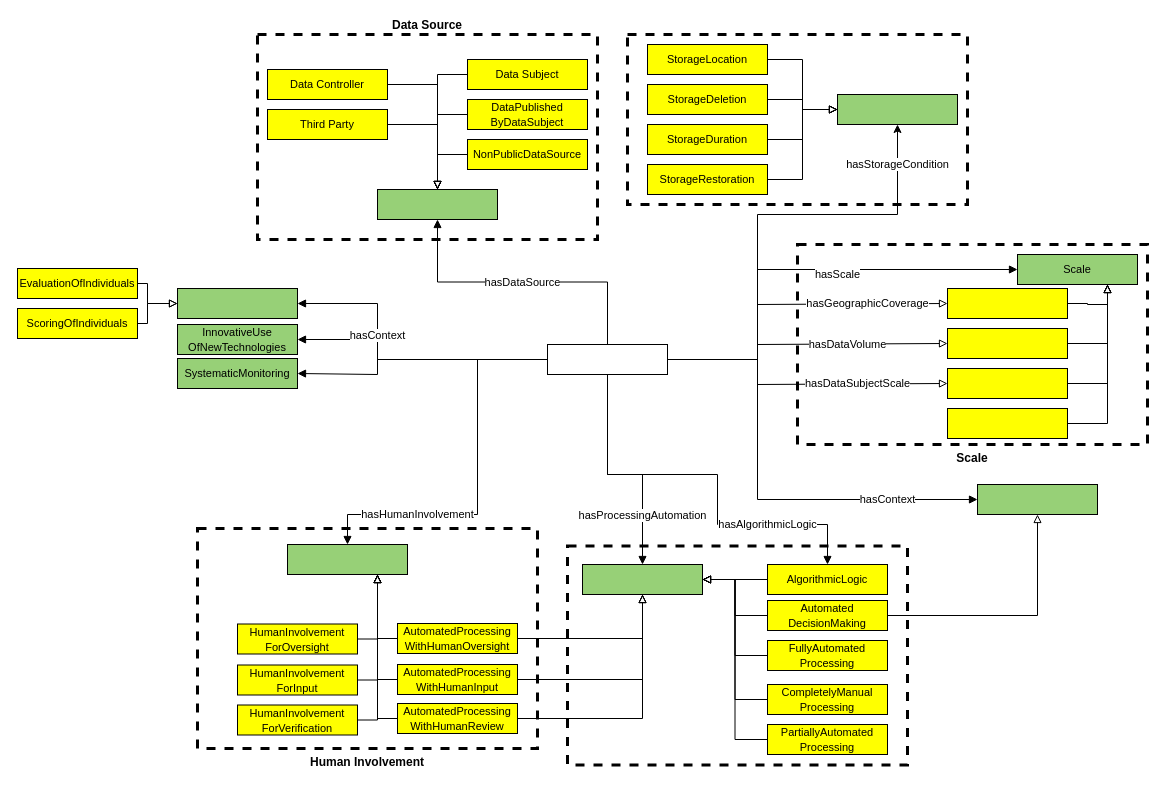
The diagram is 1166 pixels wide and 803 high, and some of its shapes have lost their labels. Here are the shapes that lost their labels. From the top down, the box of each, then its label:
(626, 32, 968, 206): Storage Conditions
(836, 94, 958, 124): StorageCondition
(376, 188, 498, 220): DataSource
(176, 288, 298, 318): EvaluationScoring
(946, 288, 1068, 318): GeographicCoverage
(546, 344, 668, 374): Thing
(946, 328, 1068, 358): DataVolume
(946, 368, 1068, 398): DataSubjectScale
(946, 408, 1068, 438): ProcessingScale
(976, 484, 1098, 514): DecisionMaking
(286, 544, 408, 574): HumanInvolvement
(582, 564, 702, 594): AutomationOf Processing
(566, 544, 908, 766): Processing Automation
